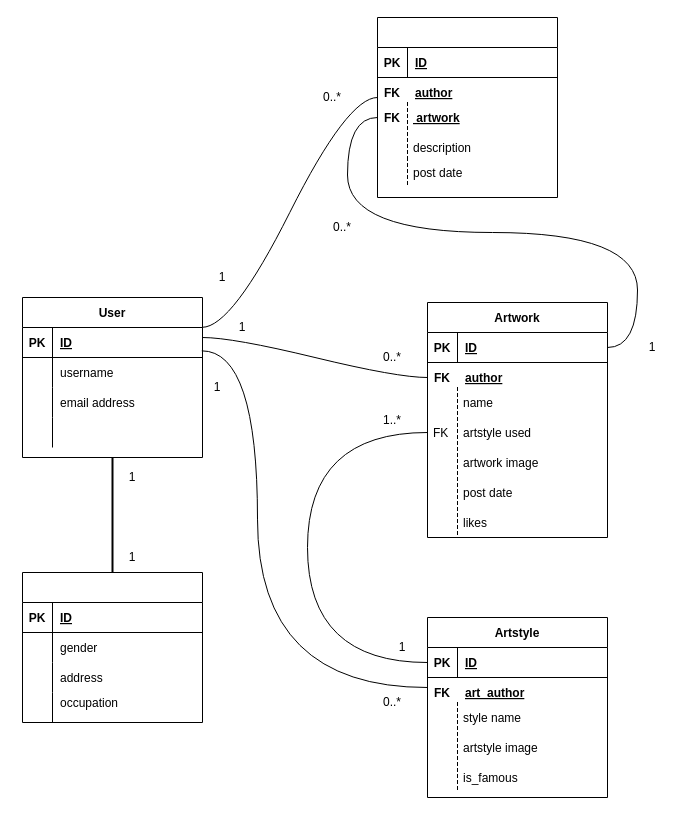
Some shapes in this 685 by 815 pixel diagram are drawn without their labels. Here are the shapes that lost their labels. From the top down, the box of each, then its label:
(376, 16, 558, 198): ArtComment
(22, 572, 202, 722): Profile
